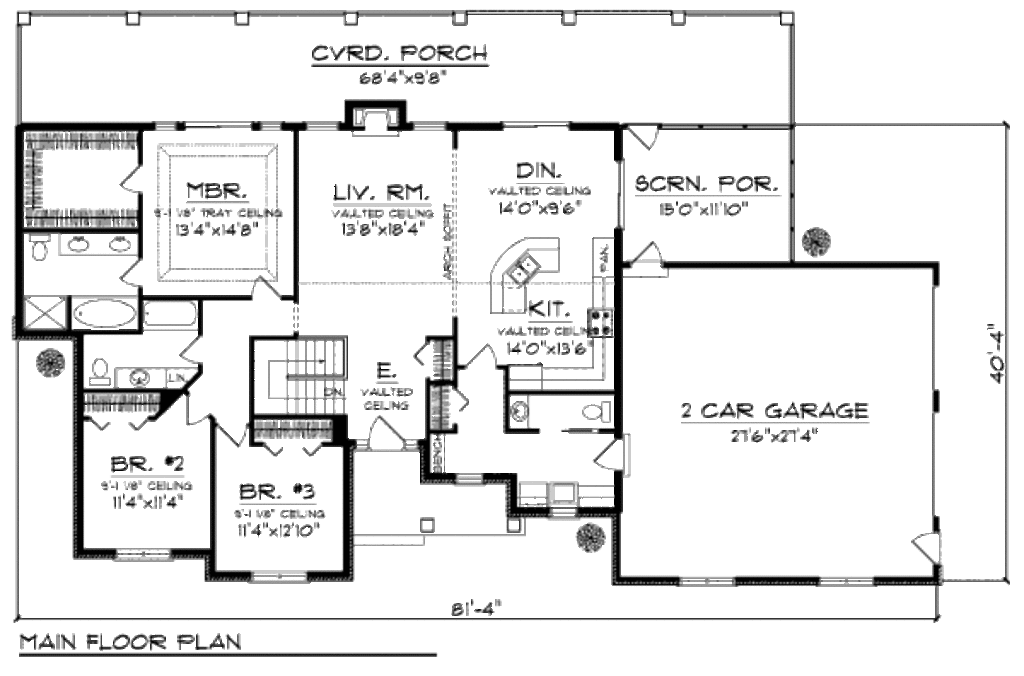door: (624, 237, 673, 276), (590, 433, 632, 474), (623, 117, 664, 158), (368, 417, 408, 452), (212, 417, 252, 450), (460, 339, 502, 369), (117, 253, 151, 289), (909, 534, 950, 563), (122, 158, 146, 202), (246, 273, 283, 300), (182, 392, 212, 423), (181, 333, 205, 363)
kitchen_bar: (476, 222, 573, 320)
large_sink: (79, 354, 114, 394), (579, 394, 611, 424), (25, 233, 50, 264)
small_sink: (57, 236, 142, 255), (112, 363, 169, 389), (506, 391, 534, 435)
stairs: (250, 339, 348, 415)
tub: (70, 297, 143, 334), (139, 296, 200, 328)
twin_sink: (505, 252, 548, 284)
window: (245, 567, 306, 586), (813, 570, 873, 589), (678, 575, 733, 594), (107, 547, 174, 559), (454, 466, 486, 487)
